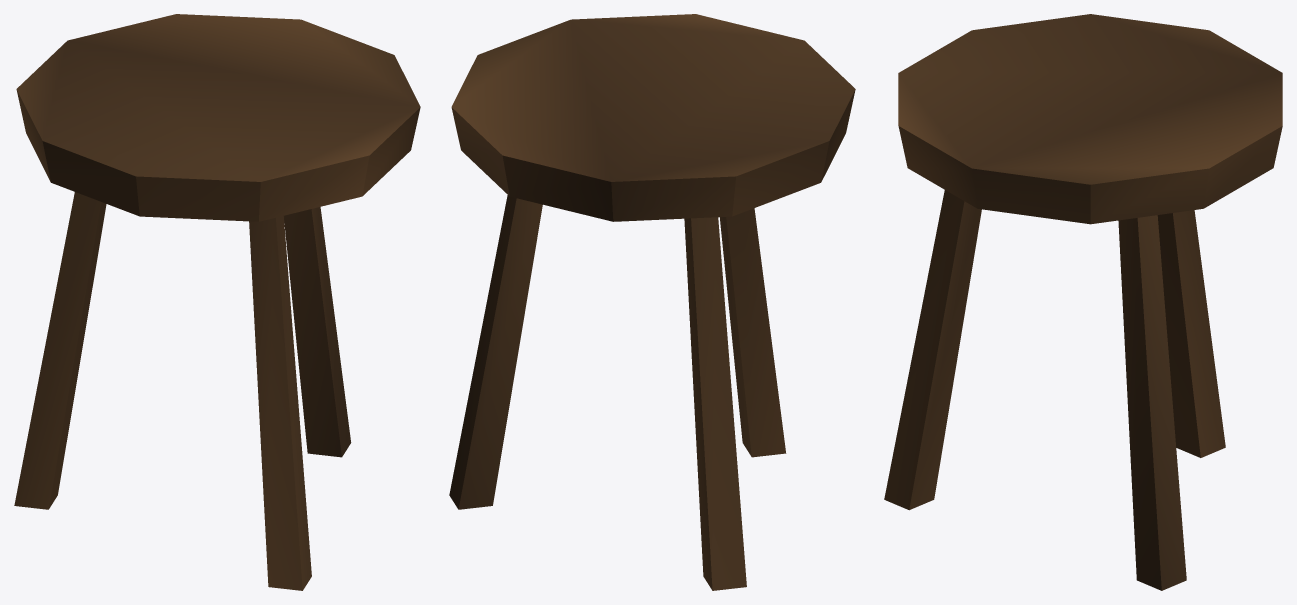
The model's file is stool.glb.
3 views of the same model, side by side, from view 1: azimuth 30°, elevation 25°; view 2: azimuth 150°, elevation 25°; view 3: azimuth 270°, elevation 25° (orthographic).
Parts seen in each view (by area): view 1: stool; view 2: stool; view 3: stool.
Boxes of the visible parts, x1,y1,x2,y2 form: stool: (14, 14, 420, 590); stool: (449, 14, 855, 590); stool: (884, 14, 1282, 590).
Size of the model in its own units: 0.42 by 0.47 by 0.4143.
